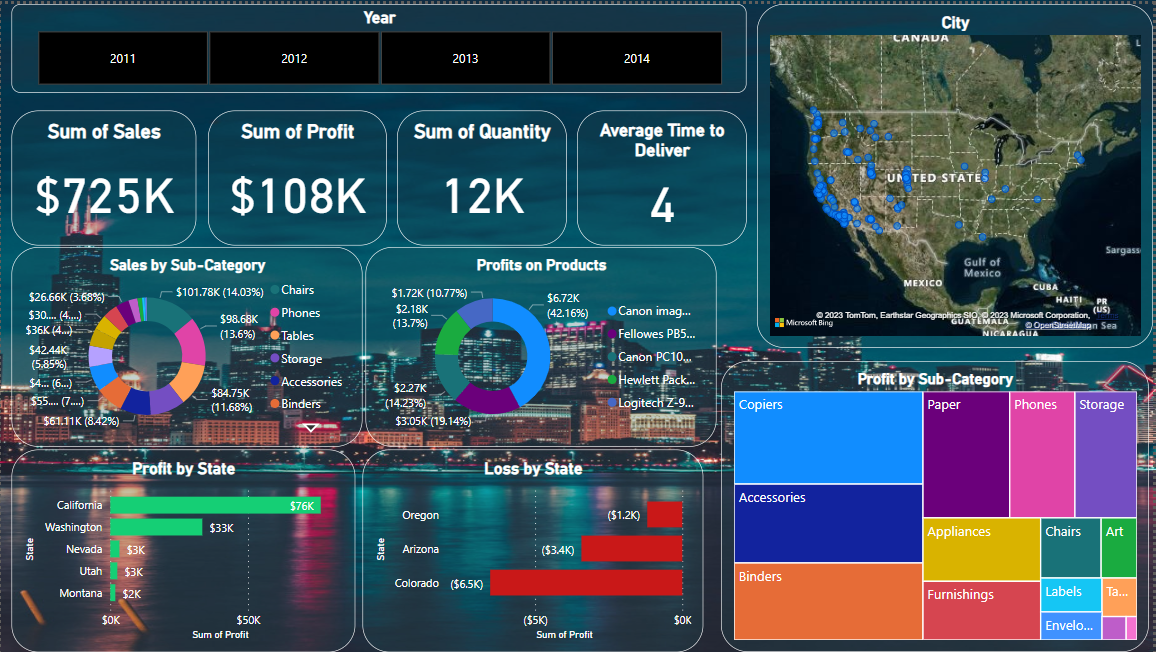

This screenshot's page, from the dashboard's own definition file:
{"tool":"powerbi","page":{"name":"Sales & Revenue","canvas":[1280,720],"ordinal":0},"visuals":[{"type":"map","title":"Profit by City","fields":{"Category":["Walmart.City"],"Size":["Sum(Walmart.Profit)"]},"box":[841.8,0,438.9,254.6],"z":0},{"type":"slicer","title":"Year","fields":{"Values":["Walmart.Order Year"]},"box":[11.7,0,816.7,98.3],"z":1000},{"type":"barChart","title":"Profit by State","fields":{"Category":["Walmart.State"],"Y":["Sum(Walmart.Profit)"]},"box":[681,257.7,303,221.8],"z":2000},{"type":"barChart","title":"Loss by State","fields":{"Category":["Walmart.State"],"Y":["Sum(Walmart.Profit)"]},"box":[981.7,257.7,298.3,220.2],"z":3000},{"type":"card","title":"Sum of Profit","fields":{"Values":["Sum(Walmart.Profit)"]},"box":[229.6,104.6,198.4,149.9],"z":4000},{"type":"card","title":"Sum of Sales","fields":{"Values":["Sum(Walmart.Sales)"]},"box":[10.9,106.2,206.2,149.9],"z":5000},{"type":"card","title":"Sum of Quantity","fields":{"Values":["Sum(Walmart.Quantity)"]},"box":[440.4,104.6,187.4,149.9],"z":6000},{"type":"treemap","title":"Profit by Sub-Category","fields":{"Group":["Walmart.Sub-Category"],"Values":["Sum(Walmart.Profit)"]},"box":[715.3,484.2,246.8,231.1],"z":7000},{"type":"card","title":"Average Time to Deliver ","fields":{"Values":["Avg(Walmart.Delivery Time (in days))"]},"box":[640.3,104.6,187.4,149.9],"z":8000},{"type":"donutChart","title":"Profits on Products","fields":{"Category":["Walmart.Product Name"],"Y":["Sum(Walmart.Profit)"]},"box":[968.3,481,312.4,234.3],"z":10000},{"type":"areaChart","title":"Sales and Profit by Month","fields":{"Y":["Sum(Walmart.Sales)"],"Y2":["Sum(Walmart.Profit)"],"Category":["Walmart.Order Date.Variation.Date Hierarchy.Month"]},"box":[0,257.7,681,215.5],"z":11000},{"type":"lineStackedColumnComboChart","title":"Sum of Sales by Customer Name and Sales Quantity (Distinct)","fields":{"Y":["Sum(Walmart.Sales)"],"Category":["Walmart.Customer Name"],"Y2":["Count(Walmart.Quantity)"]},"box":[0,477.9,709.1,242.1],"z":11001}]}

Visuals, with their boxes in screenshot pixels (x1, y1, x2, y2), scaled from the page's 1280x720 canvas onto the 1156x652 screenshot:
"Profit by City" map: [760,0,1155,231]
"Year" slicer: [11,0,748,89]
"Profit by State" barChart: [615,233,889,434]
"Loss by State" barChart: [887,233,1155,433]
"Sum of Profit" card: [207,95,387,230]
"Sum of Sales" card: [10,96,196,232]
"Sum of Quantity" card: [398,95,567,230]
"Profit by Sub-Category" treemap: [646,438,869,648]
"Average Time to Deliver " card: [578,95,748,230]
"Profits on Products" donutChart: [874,436,1155,648]
"Sales and Profit by Month" areaChart: [0,233,615,429]
"Sum of Sales by Customer Name and Sales Quantity (Distinct)" lineStackedColumnComboChart: [0,433,640,651]
